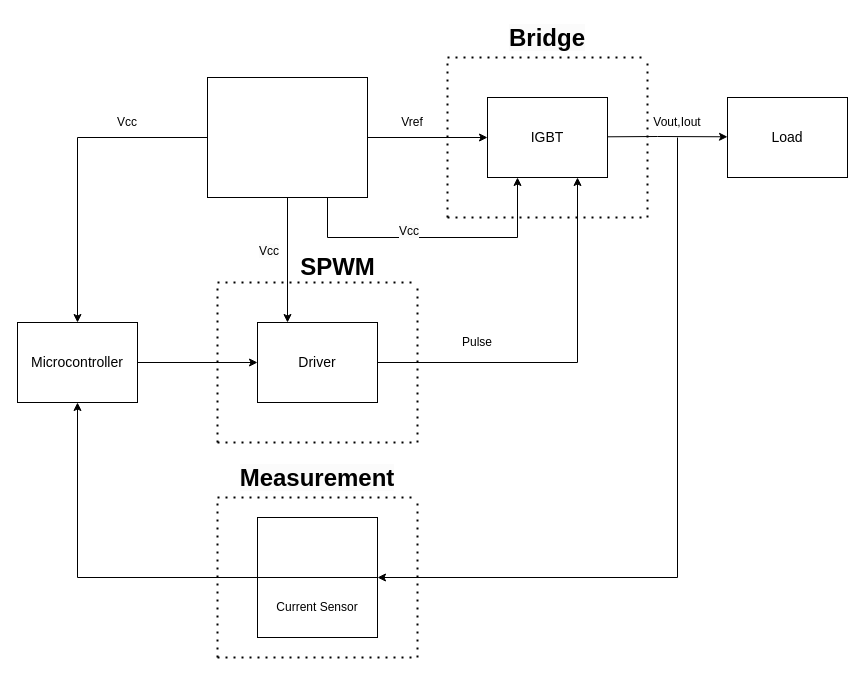
This 865x676 diagram has some shape labels left out. The centre of each missing label's shape, as x and y in pixels:
"Voltage Sensor" goes at (x=317, y=547).
"Voltage source" goes at (x=287, y=137).
